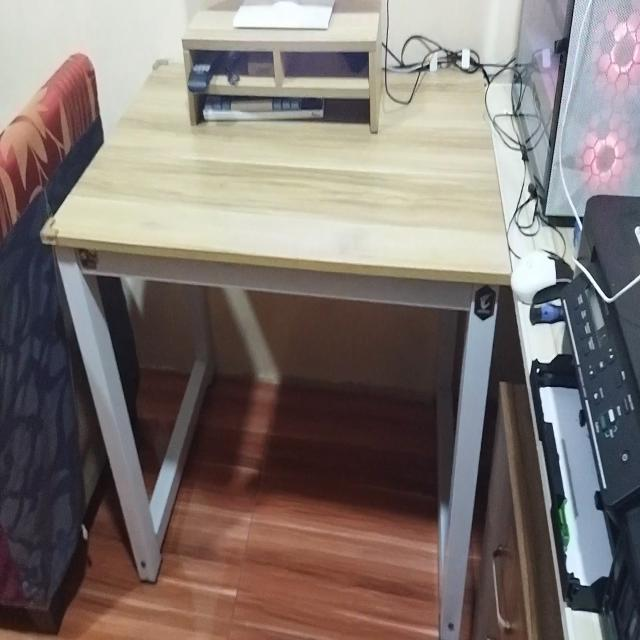table: (51, 46, 511, 623)
